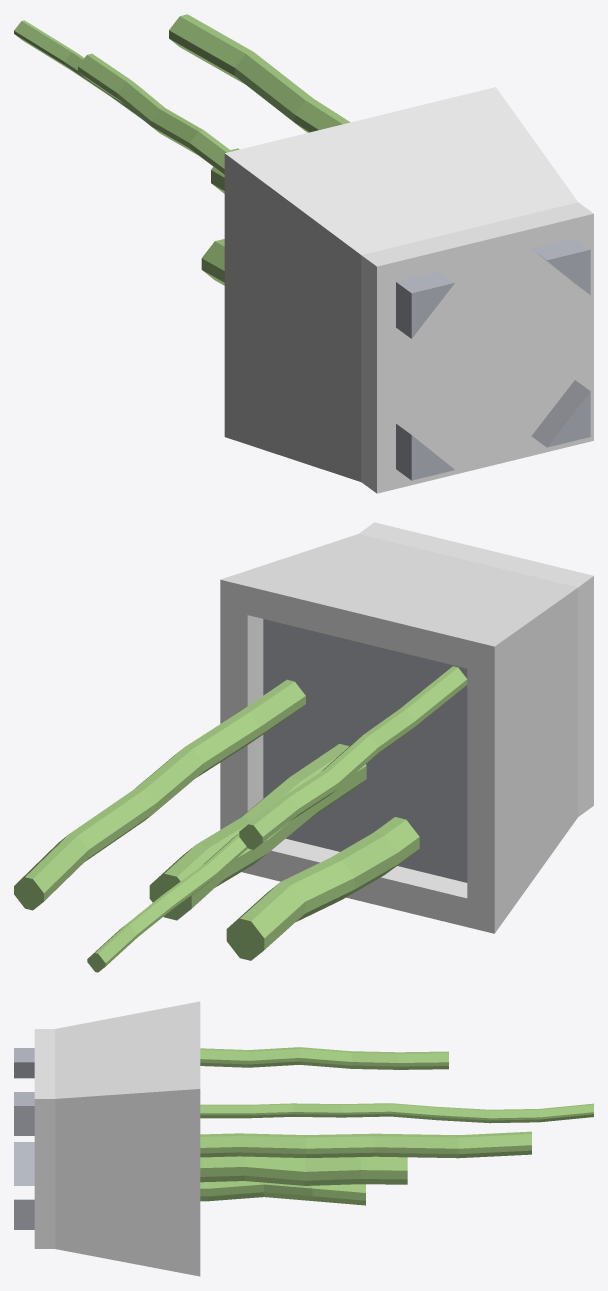
The model's file is BambooPlant.fbx.
The picture shows the model from 3 angles, top to bottom: view 1: azimuth 30°, elevation 25°; view 2: azimuth 150°, elevation 25°; view 3: azimuth 270°, elevation 25°; orthographic projection. The views are drawn at different scales.
Parts seen in each view (by area): view 1: Box001; view 2: Box001; view 3: Box001.
Boxes of the visible parts, box(x1,y1,x2,y2) form: Box001: box(14, 14, 593, 493); Box001: box(14, 522, 593, 972); Box001: box(14, 1001, 593, 1276).
Size of the model in its own units: 50 by 50 by 140.
Materials: 1 (1 with a texture image).
